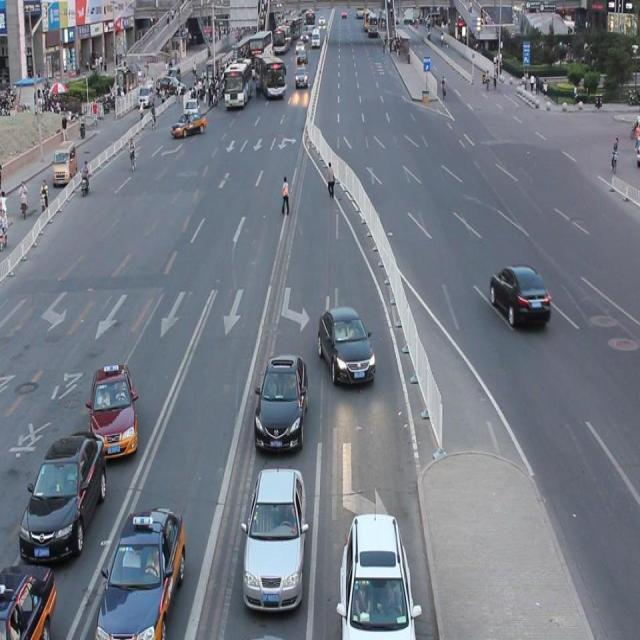BigCar: (260, 46, 287, 109)
car: (334, 500, 421, 638), (102, 502, 188, 636), (473, 242, 569, 356), (35, 414, 96, 582), (248, 458, 310, 611), (311, 283, 384, 403), (75, 357, 158, 452), (255, 334, 308, 459), (177, 110, 208, 145), (294, 59, 310, 96)
